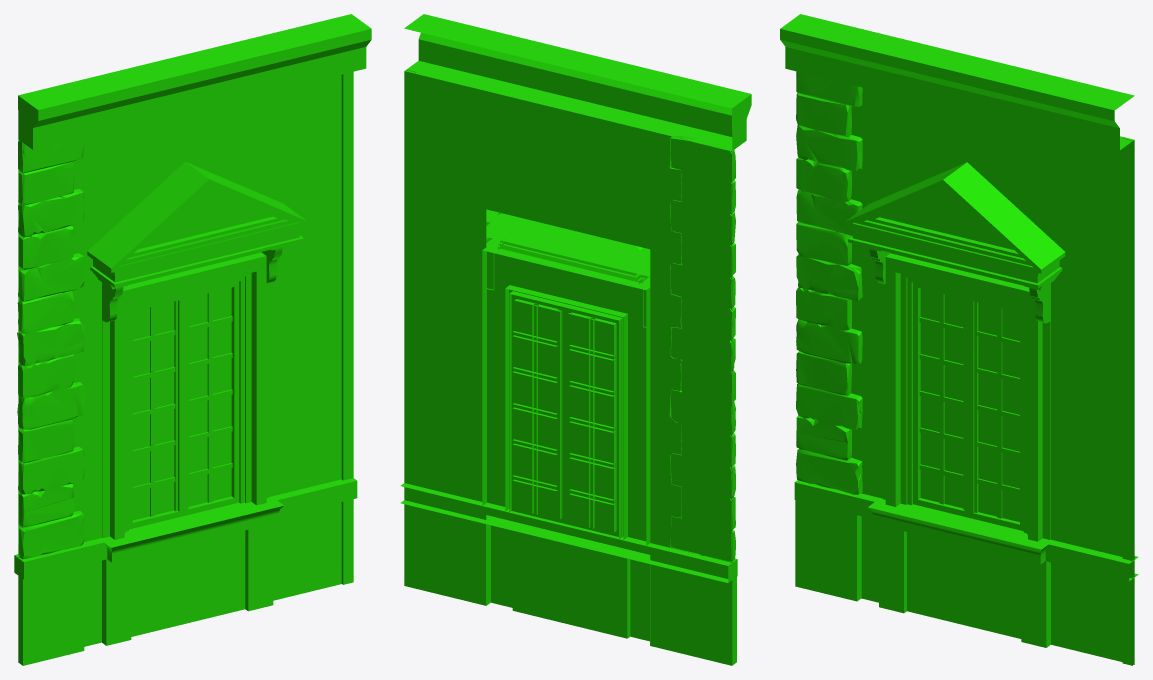
Rendered from SM_JShouse_3F_L.fbx.
3 renders of one model, left to right at view 1: azimuth 30°, elevation 25°; view 2: azimuth 150°, elevation 25°; view 3: azimuth 330°, elevation 25°, orthographic. The views are drawn at different scales.
Parts seen in each view (by area): view 1: SM_JShouse_L; view 2: SM_JShouse_L; view 3: SM_JShouse_L.
Part boxes in pixels (x1,y1,x2,y2): SM_JShouse_L: (14, 14, 371, 665); SM_JShouse_L: (400, 14, 751, 665); SM_JShouse_L: (780, 14, 1138, 665).
Bounding box in the file's own units: 320 × 520 × 49.48.
